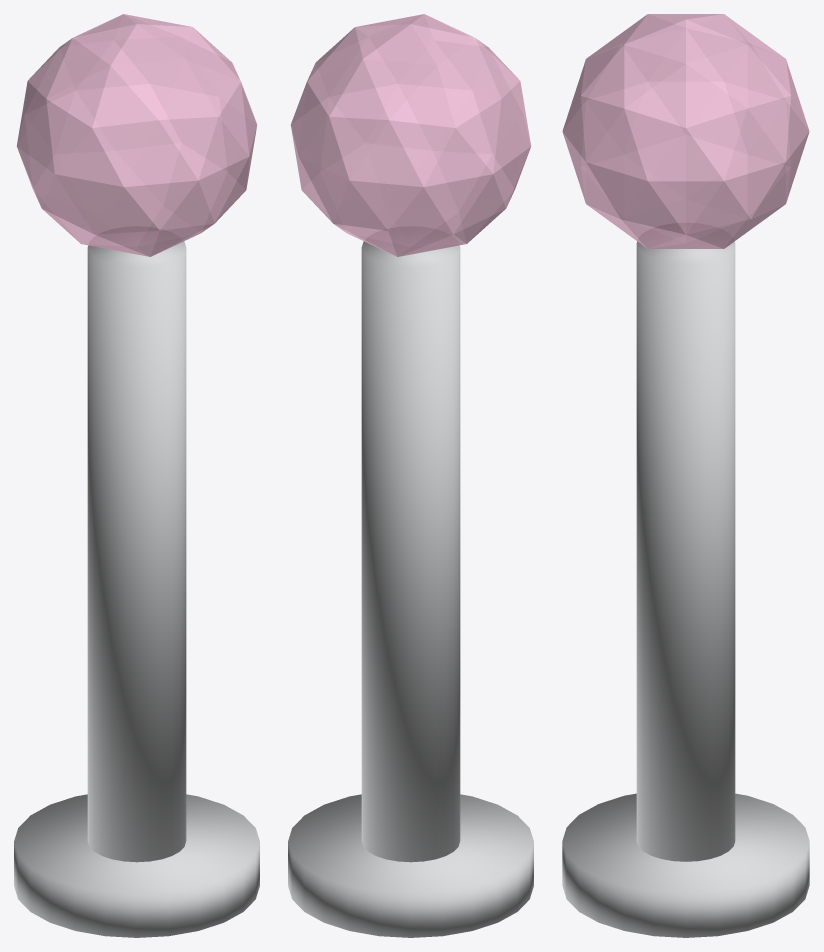
Rendered from labret-titanium-pink-gem-8mm-16g.glb.
3 views of the same model, side by side, from view 1: azimuth 30°, elevation 25°; view 2: azimuth 150°, elevation 25°; view 3: azimuth 270°, elevation 25° (orthographic).
Parts seen in each view (by area): view 1: labret_stud; view 2: labret_stud; view 3: labret_stud.
Part boxes in pixels (bbox=[...]): labret_stud: bbox=[14, 14, 259, 937]; labret_stud: bbox=[288, 14, 533, 937]; labret_stud: bbox=[562, 14, 809, 937].
Size of the model in its own units: 0.003 by 0.0116 by 0.003.
